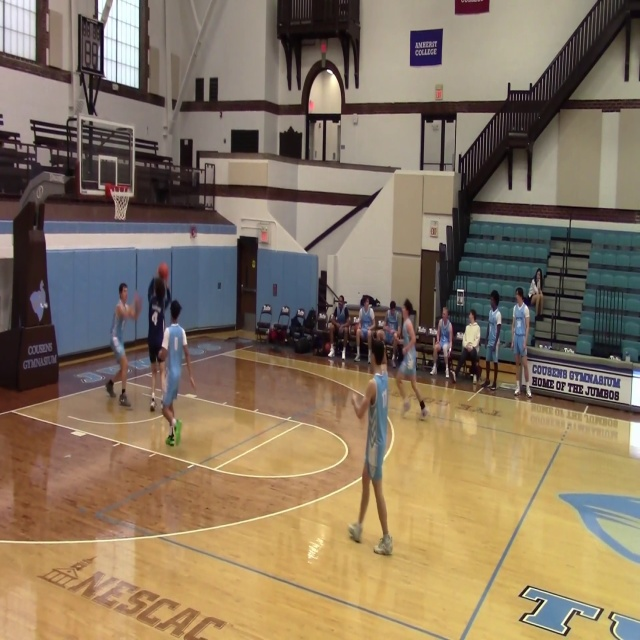Basketball: (158, 262, 169, 280), (157, 349, 167, 361), (376, 330, 385, 340), (324, 342, 331, 352)
